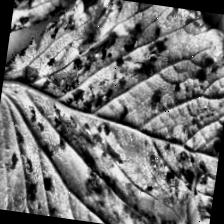Angular Leafspot: (0, 0, 224, 224), (2, 0, 130, 99)
